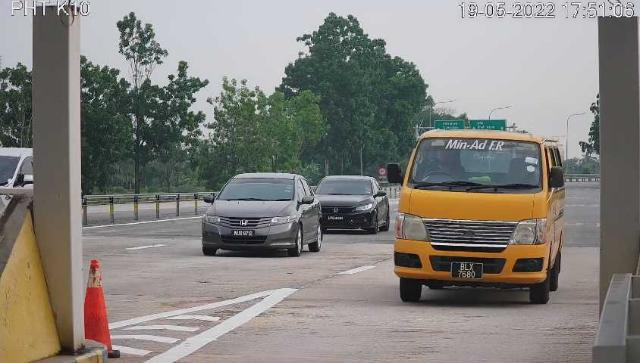License_Plate: (450, 262, 484, 283), (230, 230, 258, 243)
car: (199, 171, 325, 261), (312, 176, 390, 233)
van: (395, 132, 565, 305)
